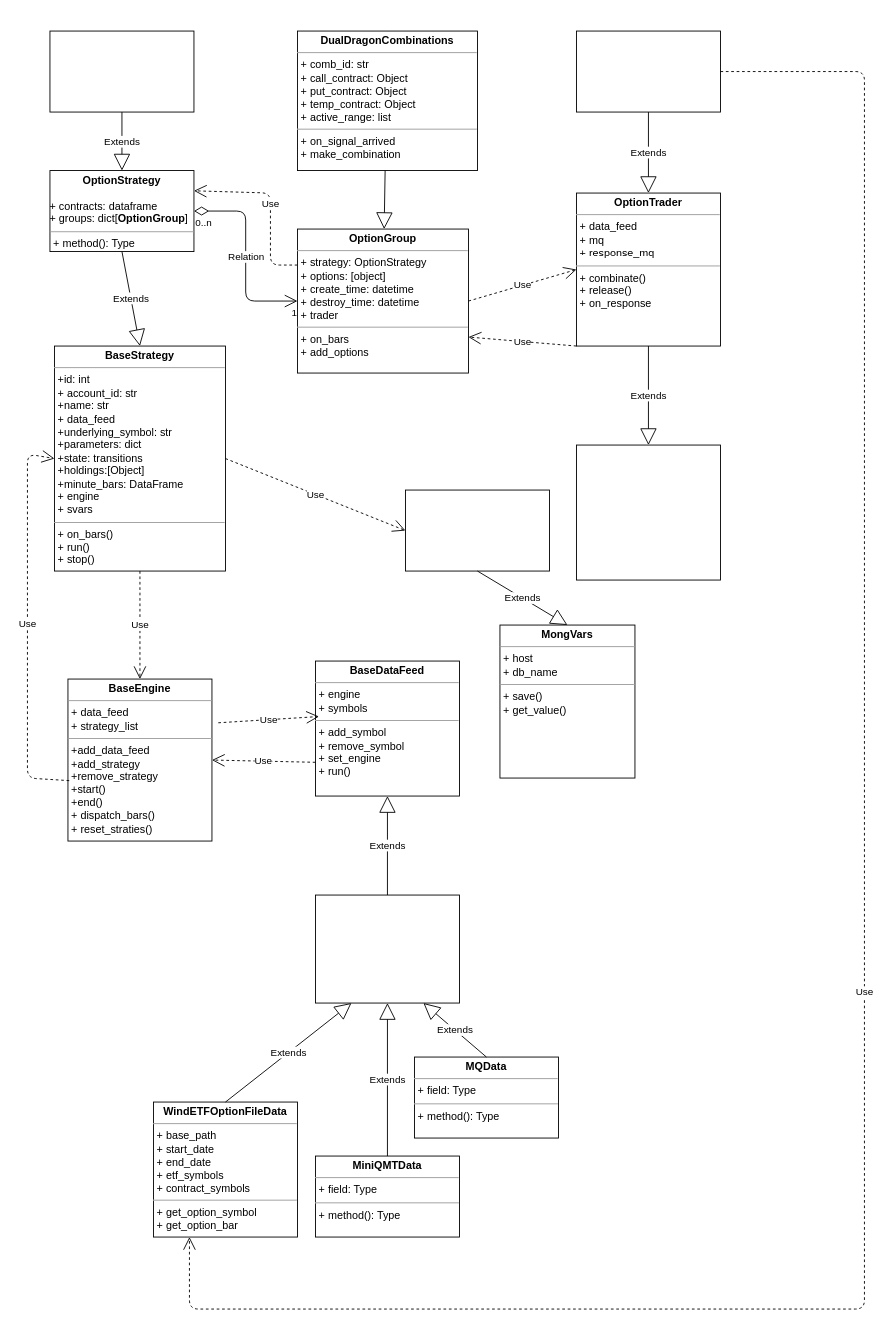
The diagram is 893 pixels wide and 1337 high, and some of its shapes have lost their labels. Each missing label, with the box of its shape:
BacktestOptionTrader + method(): Type: (576, 30, 720, 112)
DualDragonStrategy + day_group + load: (49, 30, 194, 112)
OptionDataFeed + contracts + contracts_data: (315, 894, 459, 1003)
StrategyVars + field: Type + method(): Type: (405, 489, 549, 571)
Trader + long_open() + long_close() + short_open() + short_close(): (576, 444, 720, 580)
